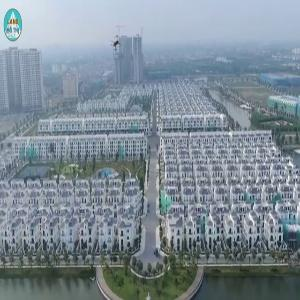drone: (100, 29, 132, 61)
